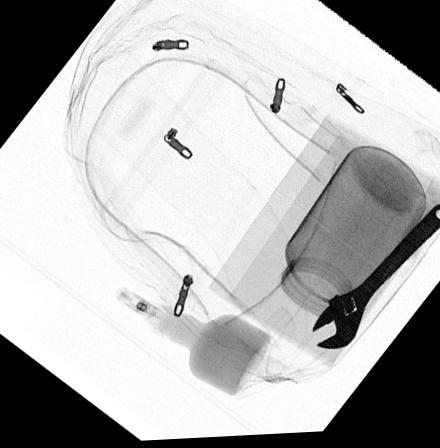Wrench: (309, 207, 440, 352)
